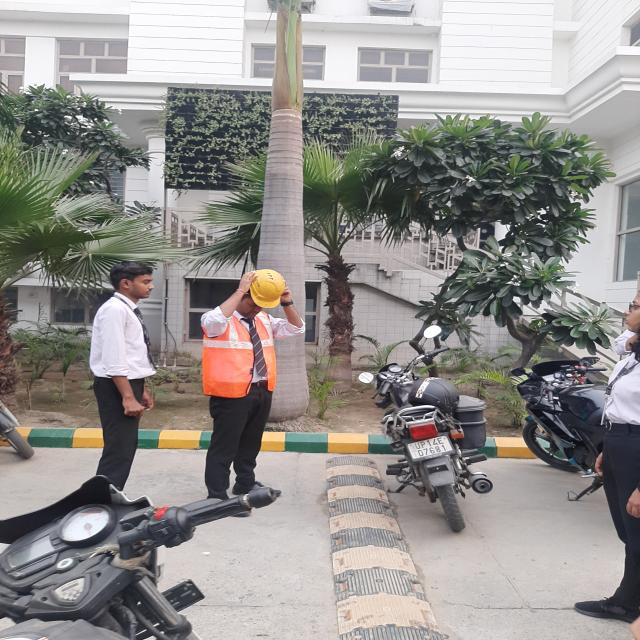safe: (206, 269, 300, 503)
unsafe: (86, 258, 173, 485)
